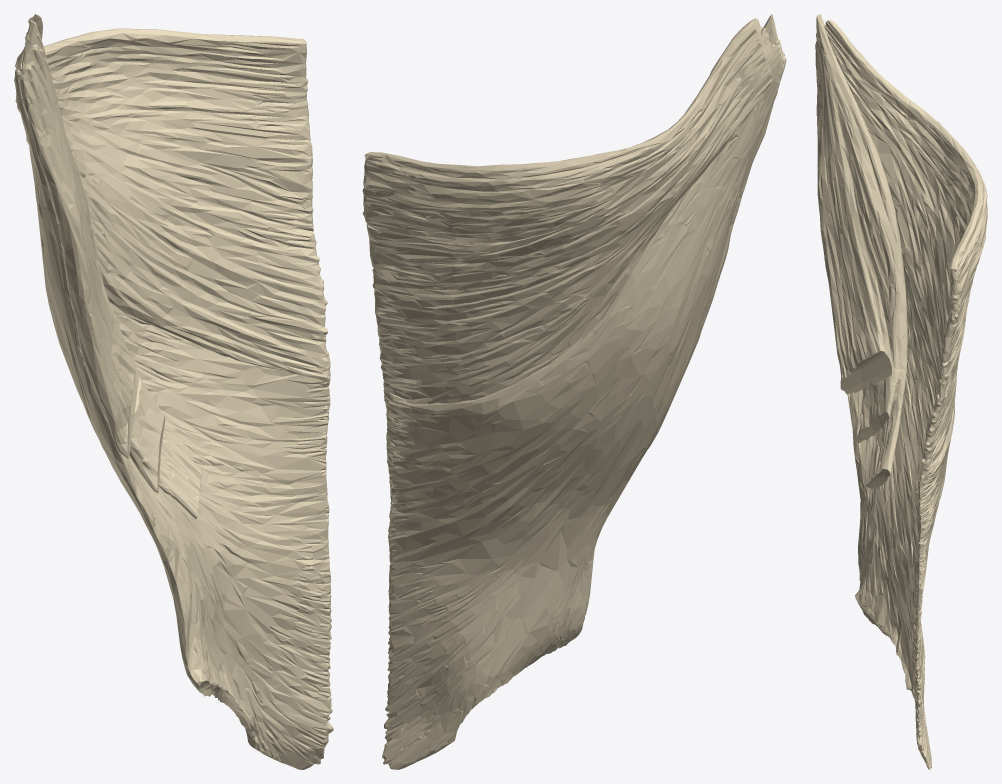
The model's file is z-upper-limb-muscle.glb.
3 views of the same model, side by side, from view 1: azimuth 30°, elevation 25°; view 2: azimuth 150°, elevation 25°; view 3: azimuth 270°, elevation 25° (orthographic). The views are drawn at different scales.
Visible parts, largest first — view 1: z-latissimus-dorsi-muscle-r; view 2: z-latissimus-dorsi-muscle-r; view 3: z-latissimus-dorsi-muscle-r.
Boxes of the visible parts, box(x1,y1,x2,y2) form: z-latissimus-dorsi-muscle-r: box(14, 14, 333, 769); z-latissimus-dorsi-muscle-r: box(362, 14, 786, 769); z-latissimus-dorsi-muscle-r: box(815, 14, 987, 769).
Size of the model in its own units: 1.81 by 3.97 by 0.9842.
